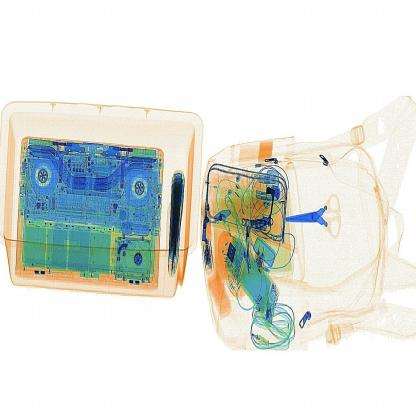gun: (280, 195, 351, 246)
